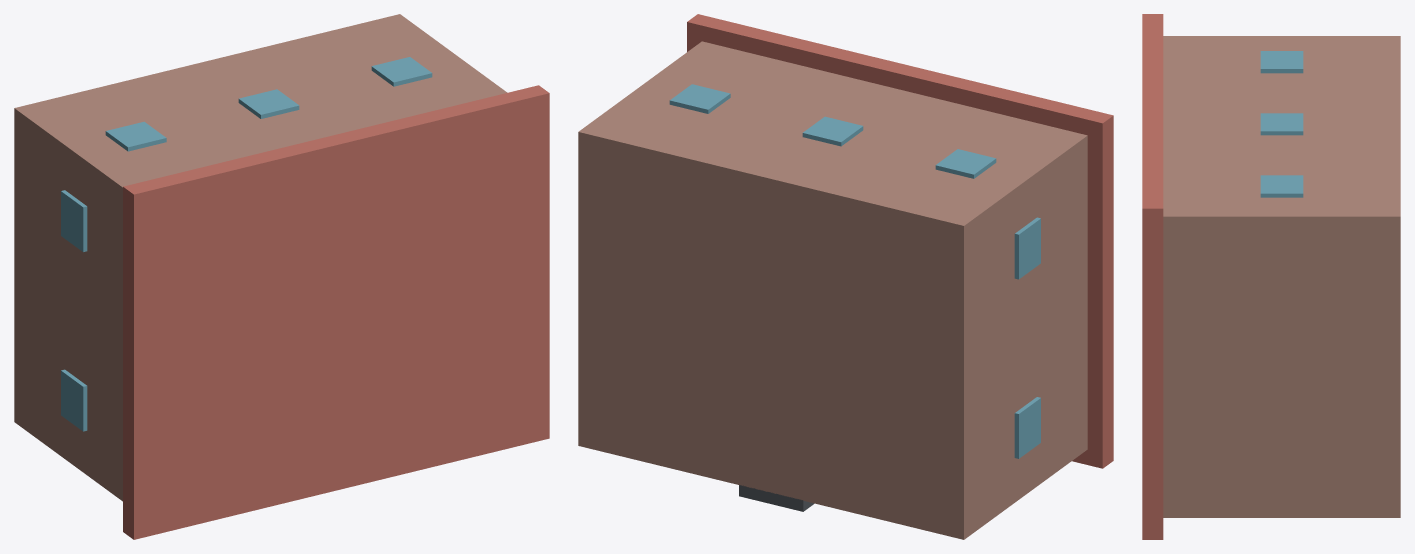
Rendered from cafe.glb.
The picture shows the model from 3 angles, left to right: view 1: azimuth 30°, elevation 25°; view 2: azimuth 150°, elevation 25°; view 3: azimuth 270°, elevation 25°; orthographic projection. The views are drawn at different scales.
Visible parts, largest first — view 1: g1, g0, g9, g8, g3, g5, g7; view 2: g0, g1, g9, g8, g3, g5, g7, g10; view 3: g0, g1, g7, g3, g5.
Part boxes in pixels (box(x1,y1,x2,y2)): g1: box(123, 85, 549, 539); g0: box(14, 14, 507, 501); g9: box(61, 190, 87, 252); g8: box(61, 369, 87, 431); g3: box(105, 121, 166, 151); g5: box(238, 89, 299, 118); g7: box(371, 57, 432, 86); g0: box(578, 41, 1087, 539); g1: box(687, 14, 1113, 468); g9: box(1014, 217, 1040, 279); g8: box(1014, 397, 1040, 458); g3: box(935, 149, 996, 178); g5: box(802, 116, 863, 146); g7: box(669, 84, 730, 113); g10: box(739, 485, 814, 511); g0: box(1163, 36, 1400, 517); g1: box(1142, 14, 1163, 539); g7: box(1260, 175, 1303, 197); g3: box(1260, 51, 1303, 73); g5: box(1260, 113, 1303, 135).
Size of the model in its own units: 9.7 by 7.7 by 5.44.
